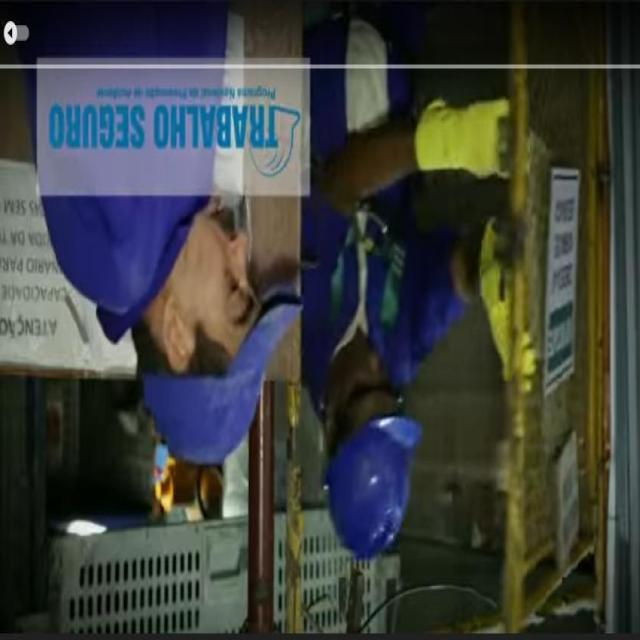helmet: (320, 396, 428, 558)
